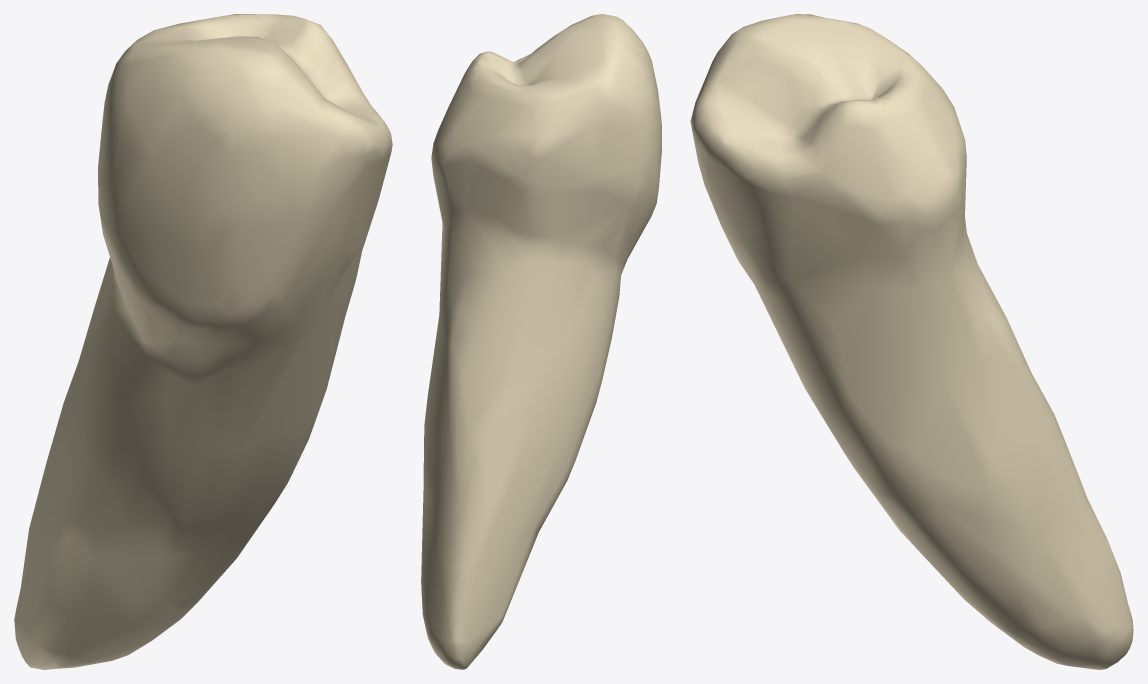
File: tooth-44.glb
3 renders of one model, left to right at view 1: azimuth 30°, elevation 25°; view 2: azimuth 150°, elevation 25°; view 3: azimuth 270°, elevation 25°, orthographic. The views are drawn at different scales.
Parts seen in each view (by area): view 1: tooth-44; view 2: tooth-44; view 3: tooth-44.
Part boxes in pixels (x1,y1,x2,y2): tooth-44: (14, 14, 392, 669); tooth-44: (421, 14, 661, 669); tooth-44: (690, 14, 1133, 669).
Bounding box in the file's own units: 0.1986 × 0.563 × 0.3537.
